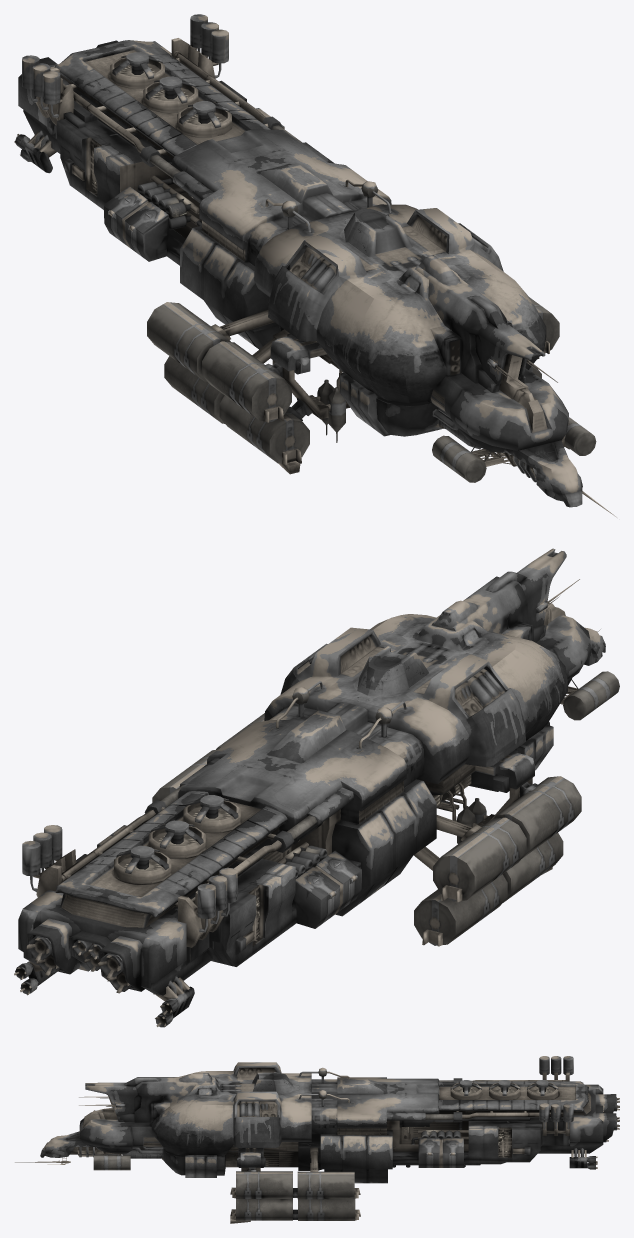
The model's file is 33239_lite.glb.
The picture shows the model from 3 angles, top to bottom: view 1: azimuth 30°, elevation 25°; view 2: azimuth 150°, elevation 25°; view 3: azimuth 270°, elevation 25°; orthographic projection. The views are drawn at different scales.
Visible parts, largest first — view 1: ColB1_tShape1; view 2: ColB1_tShape1; view 3: ColB1_tShape1.
Boxes of the visible parts, x1,y1,x2,y2 form: ColB1_tShape1: (14,14,616,517); ColB1_tShape1: (14,548,619,1027); ColB1_tShape1: (15,1056,619,1223).
Size of the model in its own units: 3.1 by 1.94 by 9.18.
1 material, 1 textured.
